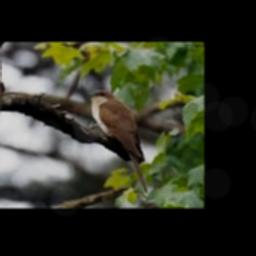Cuckoo: (87, 90, 148, 193)
